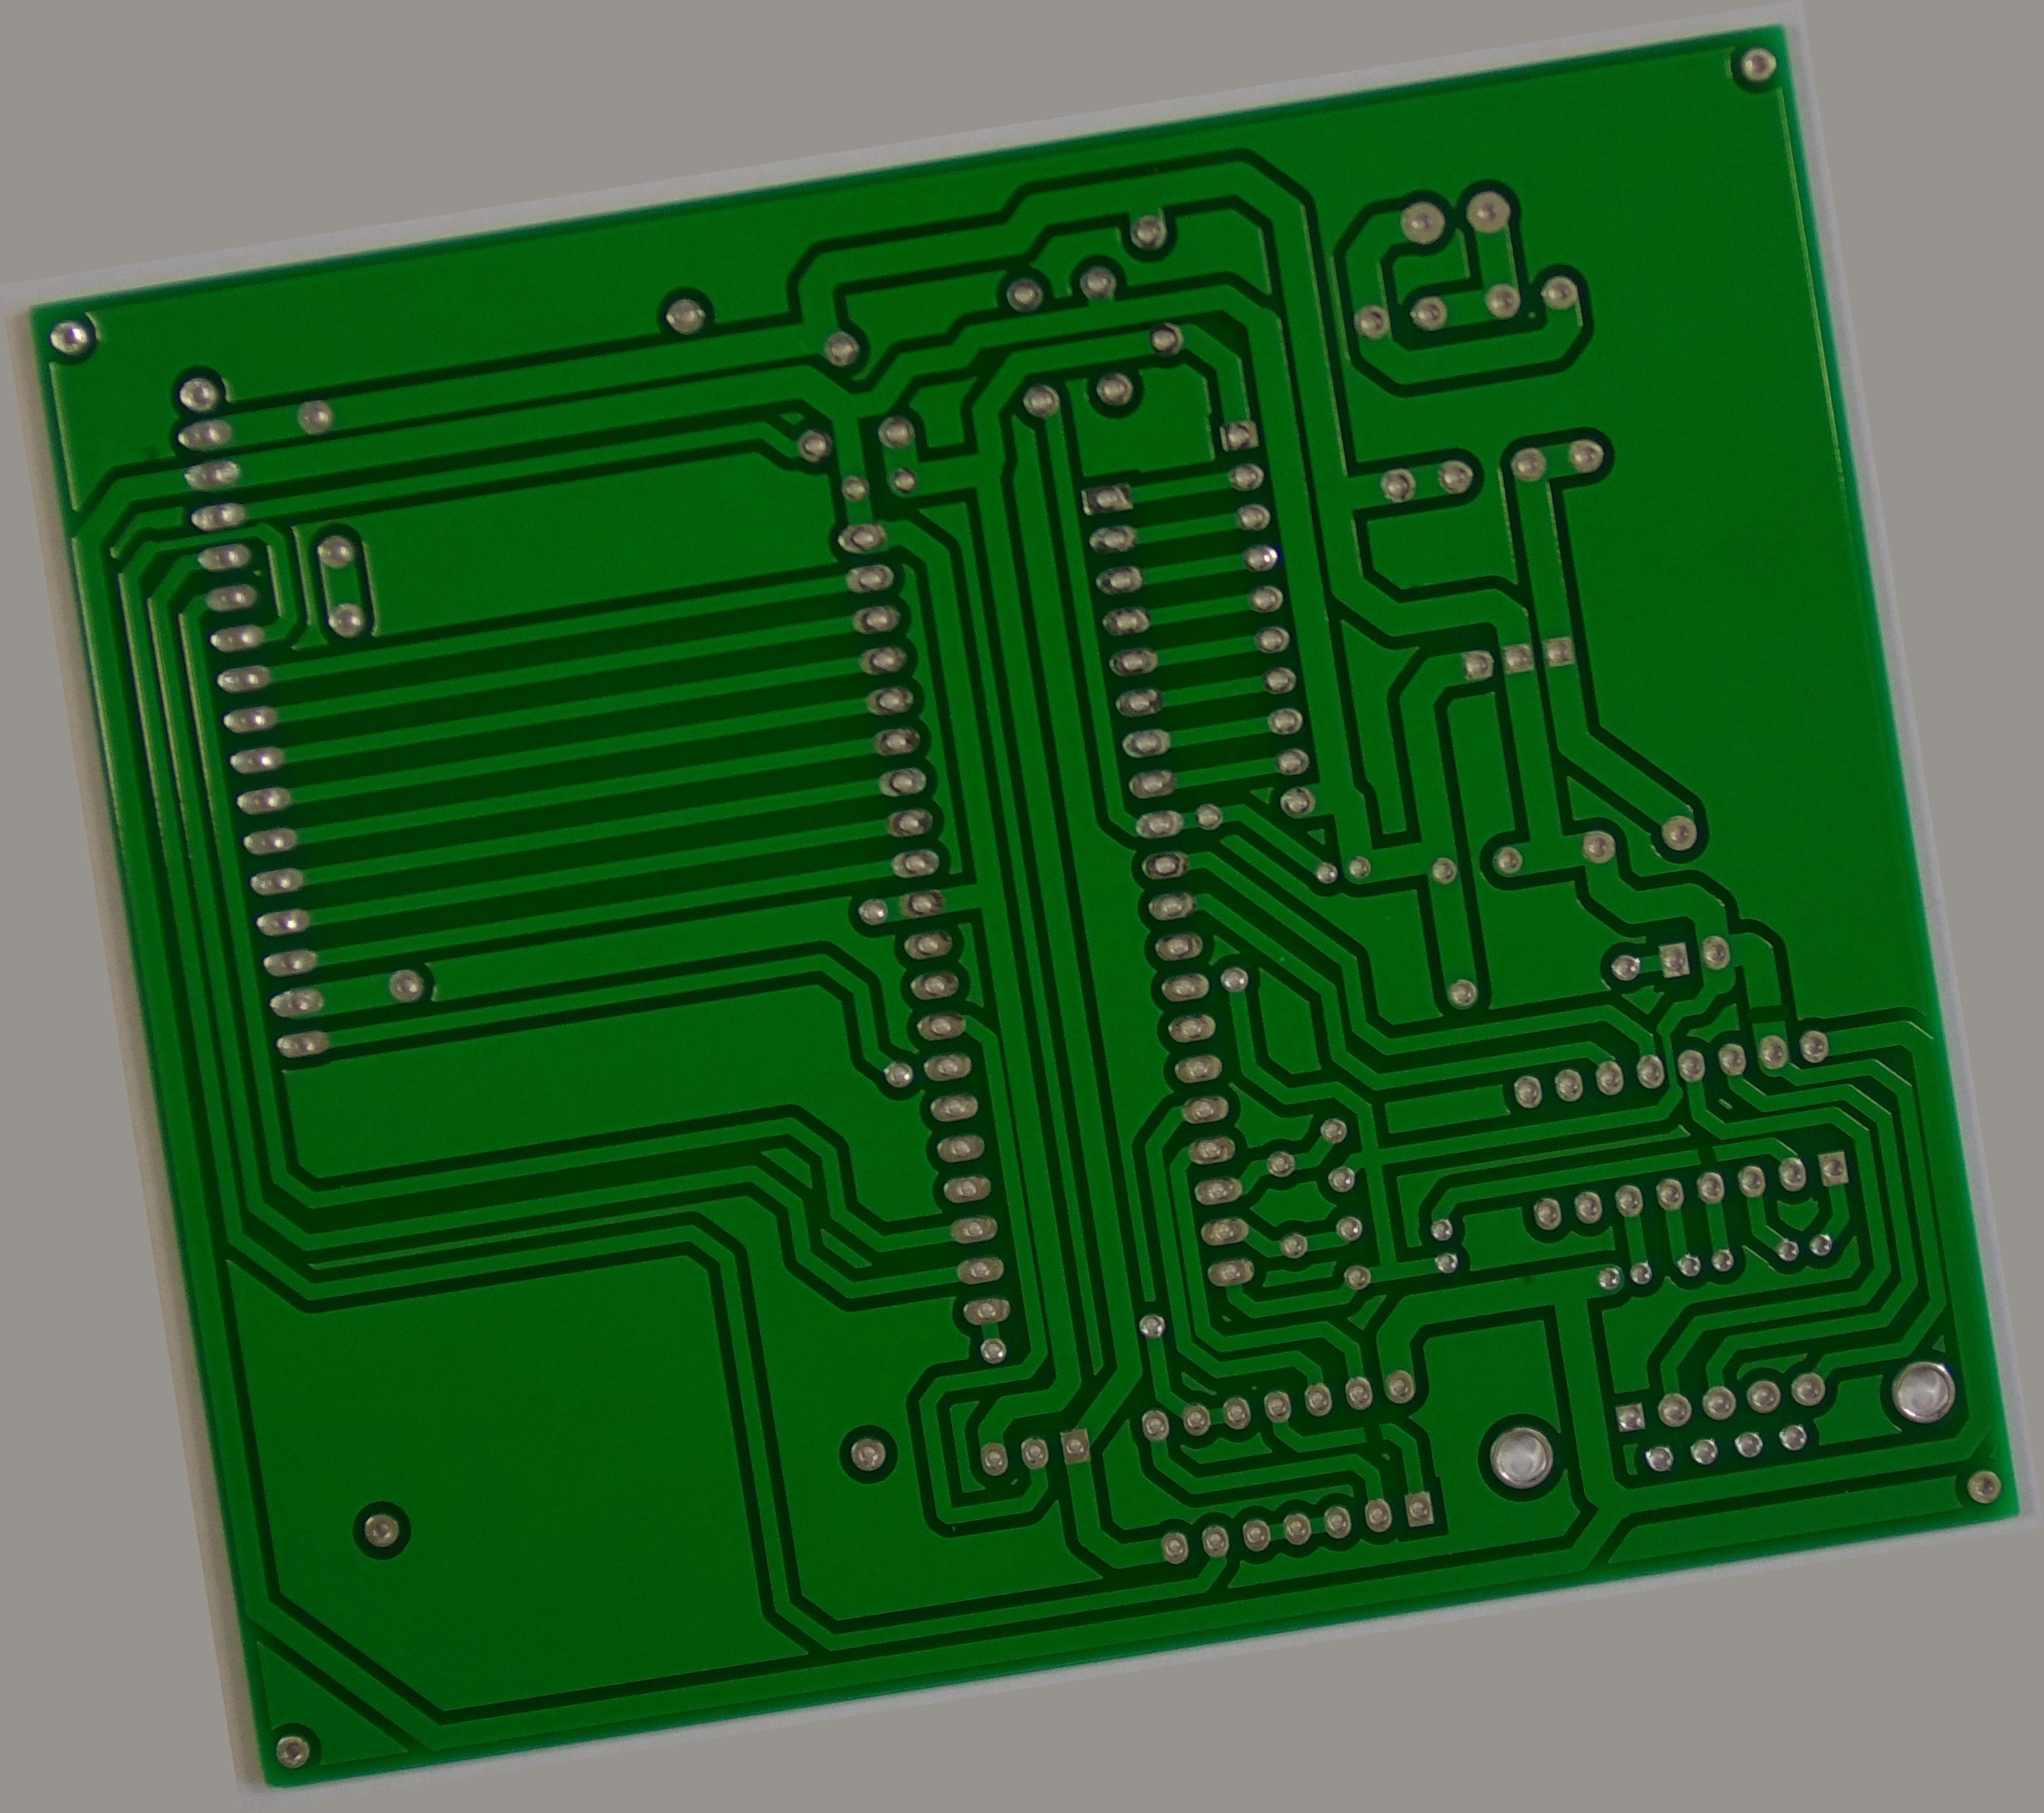open_circuit: (1802, 1143, 1853, 1186), (1711, 1300, 1760, 1339), (1297, 1561, 1337, 1601)
